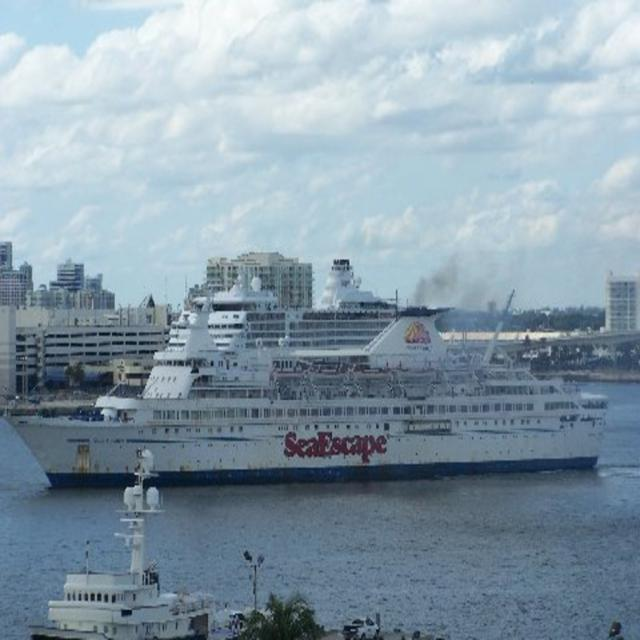Boat: (44, 242, 640, 487), (25, 450, 215, 638)
